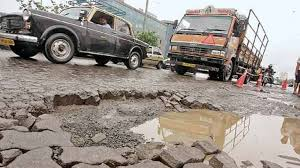pothole: (1, 87, 300, 165)
